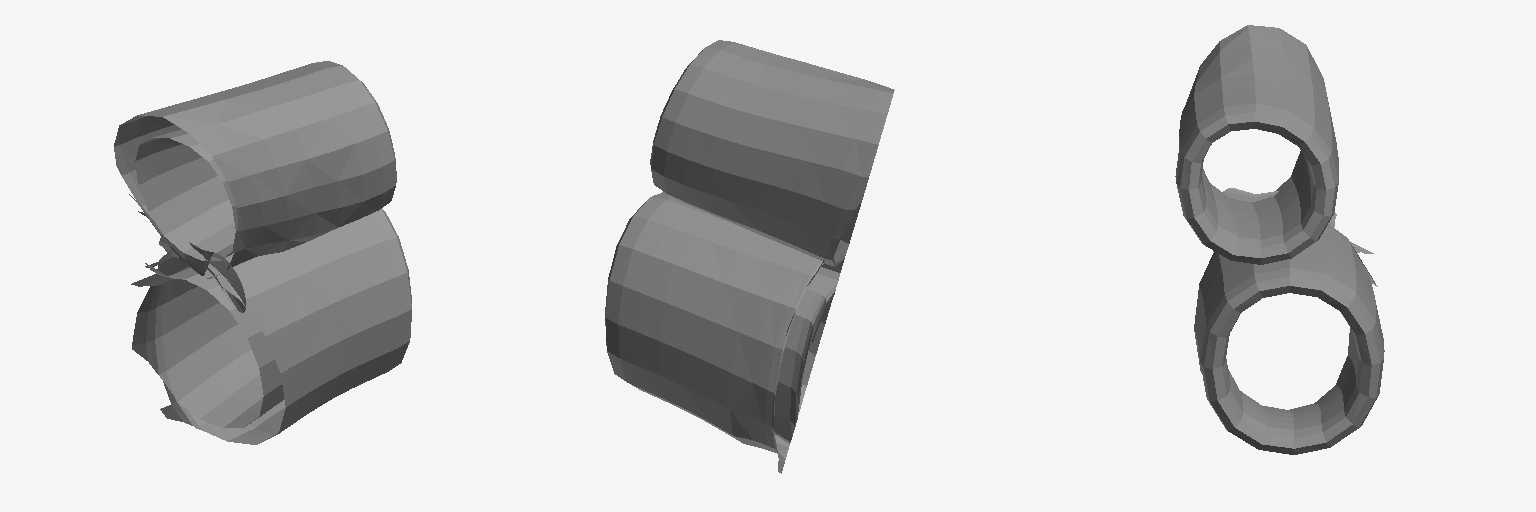
Rendered from Pulmonary_vein.obj.
3 views of the same model, side by side, from view 1: azimuth 30°, elevation 25°; view 2: azimuth 150°, elevation 25°; view 3: azimuth 270°, elevation 25° (orthographic).
Visible parts, largest first — view 1: Human_Heart; view 2: Human_Heart; view 3: Human_Heart.
Boxes of the visible parts, box(x1,y1,x2,y2) form: Human_Heart: box(114, 61, 411, 444); Human_Heart: box(605, 40, 894, 473); Human_Heart: box(1175, 25, 1384, 454).
Bounding box in the file's own units: 2.05 × 2.89 × 1.5.